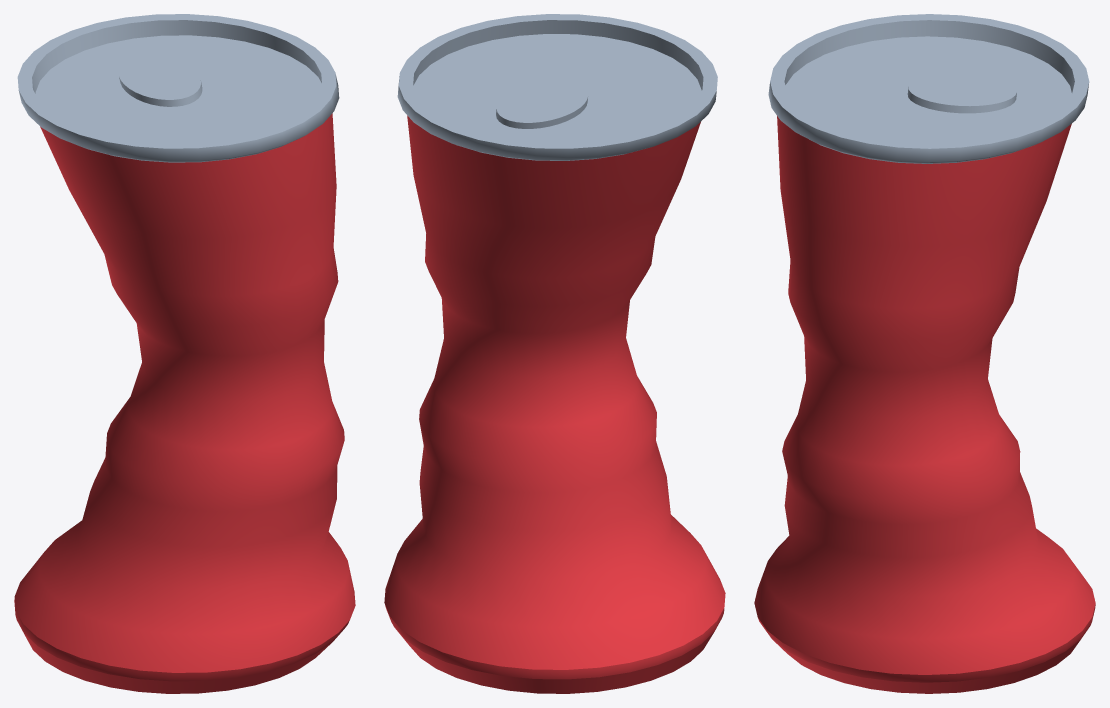
File: PoorCan.fbx
3 views of the same model, side by side, from view 1: azimuth 30°, elevation 25°; view 2: azimuth 150°, elevation 25°; view 3: azimuth 270°, elevation 25° (orthographic).
Parts seen in each view (by area): view 1: OneBeer; view 2: OneBeer; view 3: OneBeer.
Part boxes in pixels (x1,y1,x2,y2): OneBeer: (14, 14, 355, 693); OneBeer: (384, 14, 725, 693); OneBeer: (754, 14, 1095, 693).
Size of the model in its own units: 71.82 by 127 by 71.8.
